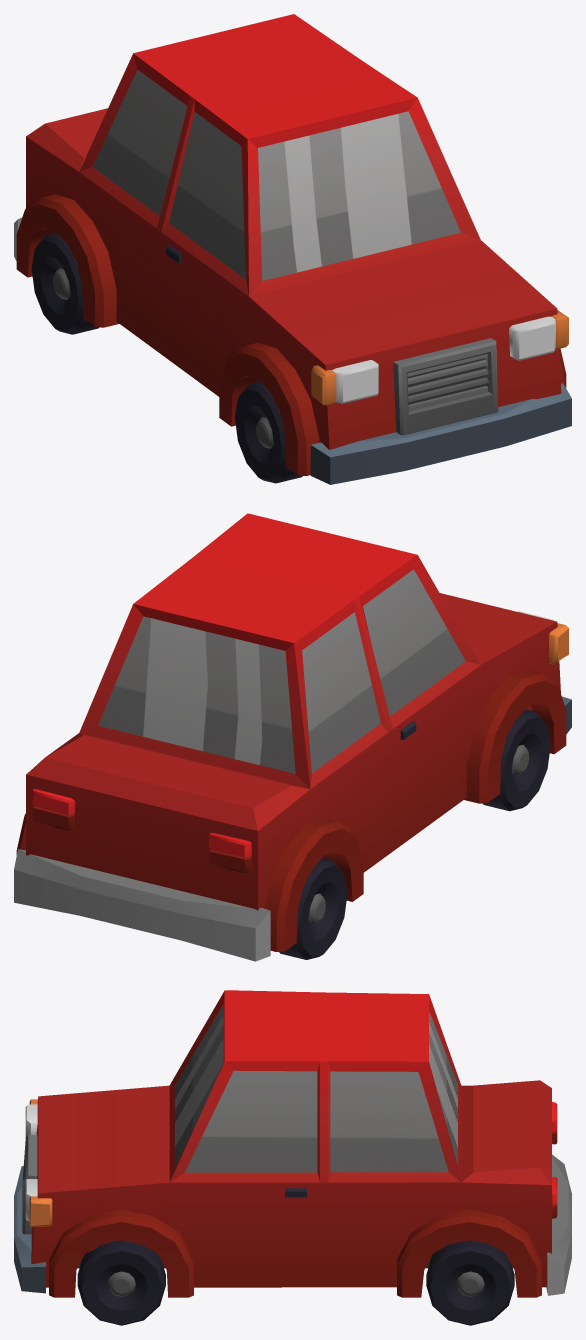
The model's file is Car_2_7.fbx.
3 views of the same model, one above another, from view 1: azimuth 30°, elevation 25°; view 2: azimuth 150°, elevation 25°; view 3: azimuth 270°, elevation 25° (orthographic). The views are drawn at different scales.
Parts seen in each view (by area): view 1: Car_2_7, W_BR, W_FR; view 2: Car_2_7, W_FR, W_BR; view 3: Car_2_7, W_BL, W_FL.
Part boxes in pixels (box(x1,y1,x2,y2)): Car_2_7: box(14, 14, 571, 484); W_BR: box(31, 232, 99, 334); W_FR: box(235, 381, 302, 483); Car_2_7: box(14, 513, 571, 961); W_FR: box(482, 709, 550, 811); W_BR: box(279, 858, 347, 959); Car_2_7: box(14, 990, 571, 1297); W_BL: box(426, 1240, 514, 1325); W_FL: box(77, 1240, 165, 1325).
Bounding box in the file's own units: 109 × 111 × 228.
